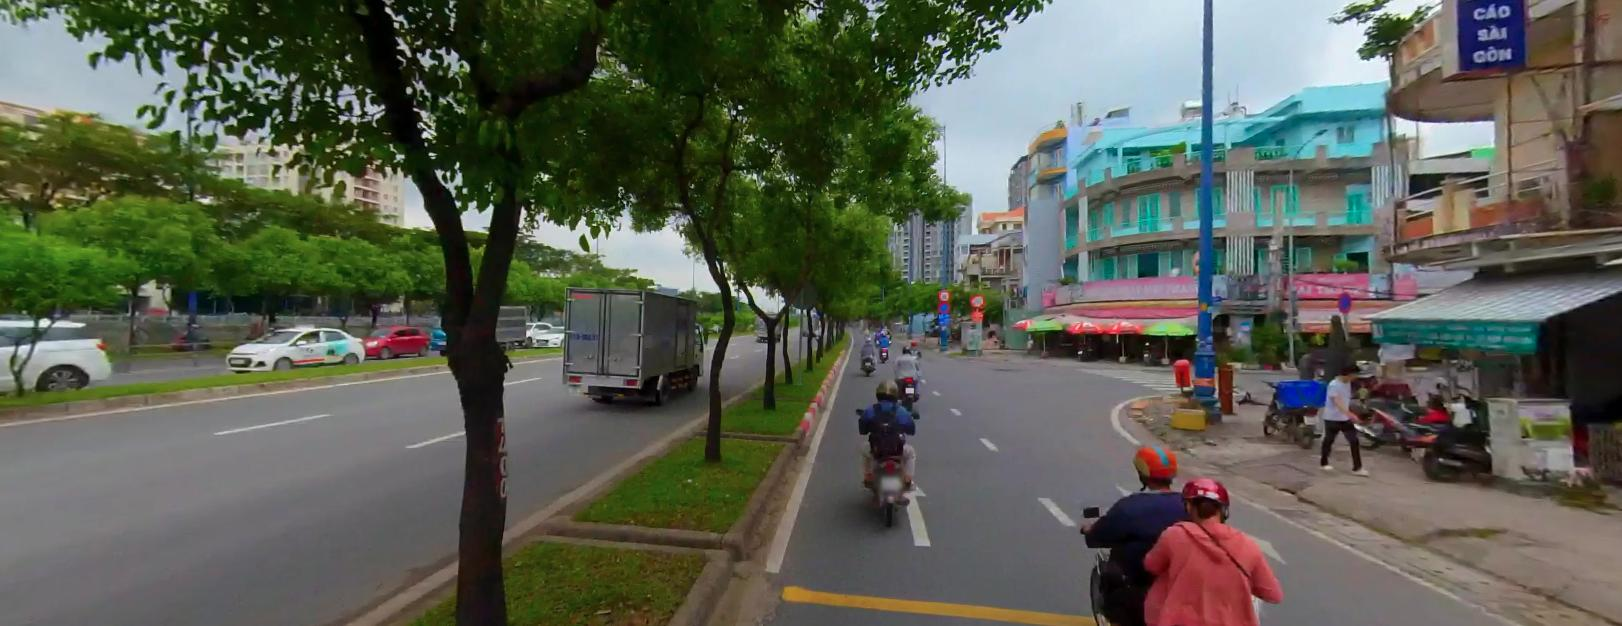Cam con lai: (970, 294, 983, 306)
Cam dung va do: (1336, 289, 1352, 312), (938, 300, 950, 311)
Gioi han toc do: (938, 288, 949, 299)
